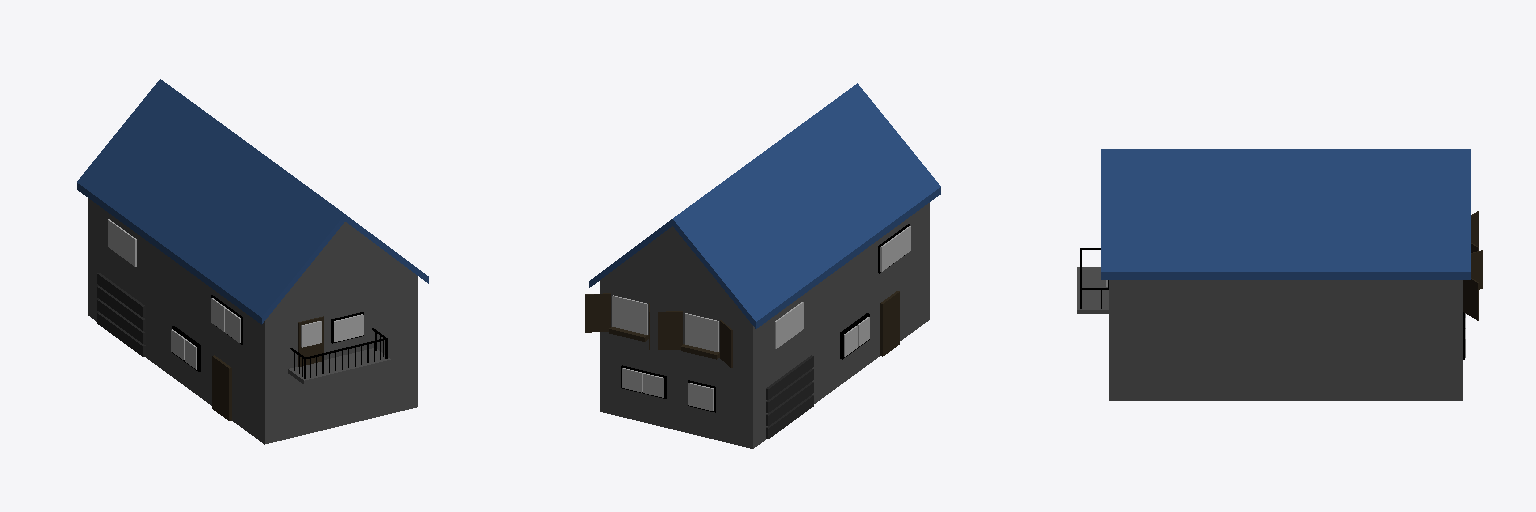
File: detached_house_01d.obj
The picture shows the model from 3 angles: view 1: azimuth 30°, elevation 25°; view 2: azimuth 150°, elevation 25°; view 3: azimuth 270°, elevation 25°; orthographic projection.
Visible parts, largest first — view 1: Box45; view 2: Box45, Box70, Box69; view 3: Box45, Box70.
Part boxes in pixels (x1,y1,x2,y2): Box45: (77,79,428,444); Box45: (589,83,940,448); Box70: (585,293,610,332); Box69: (658,311,682,349); Box45: (1077,149,1470,400); Box70: (1463,278,1478,320).
Bounding box in the file's own units: 12.02 × 14.72 × 25.23.